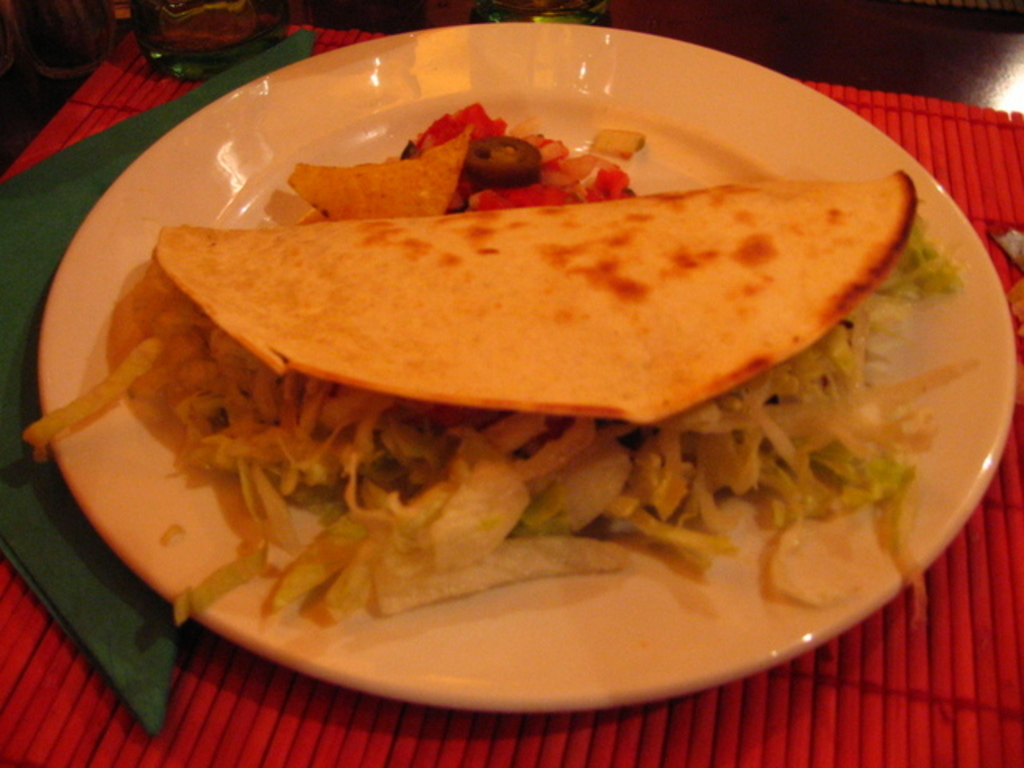taco: (160, 133, 890, 474)
